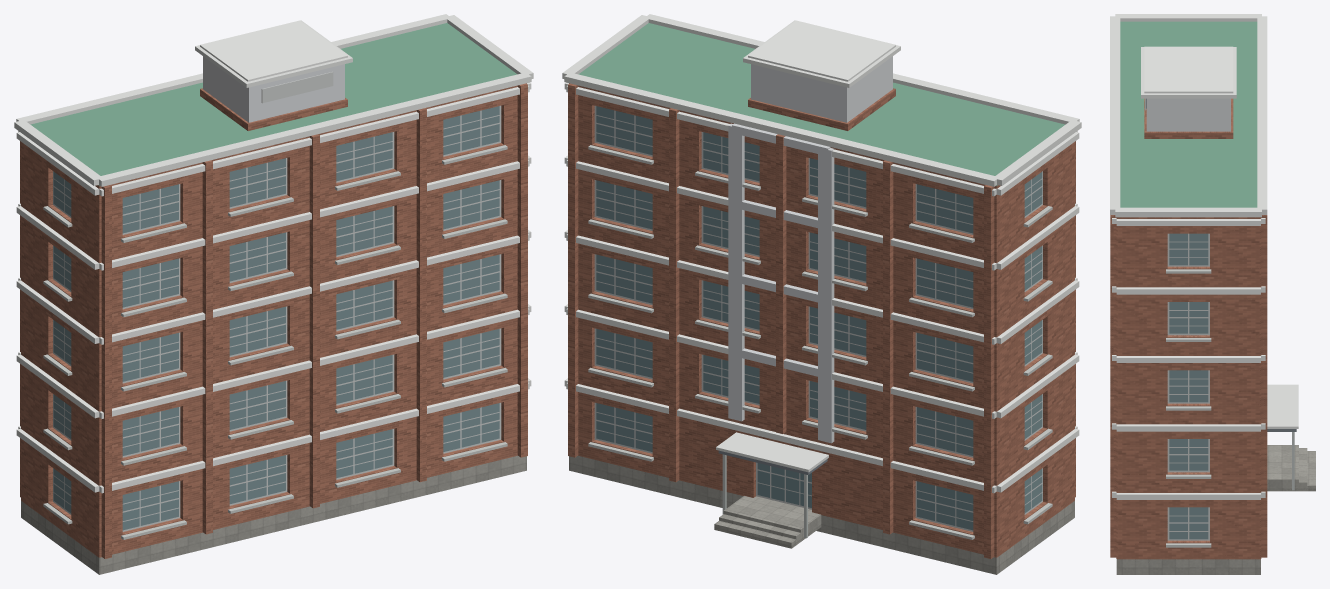
The picture shows the model from 3 angles, left to right: view 1: azimuth 30°, elevation 25°; view 2: azimuth 150°, elevation 25°; view 3: azimuth 270°, elevation 25°; orthographic projection. The views are drawn at different scales.
Parts seen in each view (by area): view 1: center-core-wing__brick, center-core-wing__sideglass, center-core-wing__band, center-core-wing__roof, center-core-wing__frame, center-core-wing__cap, center-core-wing__stone, center-core-wing__sill, center-core-wing__panel; view 2: center-core-wing__brick, center-core-wing__glass, center-core-wing__band, center-core-wing__roof, center-core-wing__panel, center-core-wing__cap, center-core-wing__frame, center-core-wing__stone, center-core-wing__sill, center-core-wing__sideglass, center-core-wing__stair-front, center-core-wing__threshold-front; view 3: center-core-wing__brick, center-core-wing__roof, center-core-wing__band, center-core-wing__cap, center-core-wing__sideglass, center-core-wing__panel, center-core-wing__frame, center-core-wing__stone, center-core-wing__threshold-front, center-core-wing__sill, center-core-wing__stair-front.
Part boxes in pixels (x1,y1,x2,y2): center-core-wing__brick: (20,83,527,558); center-core-wing__sideglass: (53,106,499,530); center-core-wing__band: (16,20,531,493); center-core-wing__roof: (30,23,517,185); center-core-wing__frame: (53,71,501,531); center-core-wing__cap: (14,14,533,186); center-core-wing__stone: (21,455,526,574); center-core-wing__sill: (43,145,507,539); center-core-wing__panel: (203,56,344,122); center-core-wing__brick: (568,83,1075,558); center-core-wing__glass: (596,106,973,530); center-core-wing__band: (564,20,1079,493); center-core-wing__roof: (578,23,1065,185); center-core-wing__panel: (728,56,892,443); center-core-wing__cap: (562,14,1081,472); center-core-wing__frame: (594,105,1042,531); center-core-wing__stone: (569,455,1074,574); center-core-wing__sill: (588,145,1052,539); center-core-wing__sideglass: (1024,172,1042,513); center-core-wing__stair-front: (714,507,805,548); center-core-wing__threshold-front: (728,496,821,536); center-core-wing__brick: (1110,98,1267,559); center-core-wing__roof: (1120,21,1257,207); center-core-wing__band: (1112,46,1265,499); center-core-wing__cap: (1110,14,1298,428); center-core-wing__sideglass: (1169,233,1208,539); center-core-wing__panel: (1146,98,1230,131); center-core-wing__frame: (1145,98,1209,540); center-core-wing__stone: (1116,559,1260,574); center-core-wing__threshold-front: (1267,445,1290,491); center-core-wing__sill: (1166,269,1211,547); center-core-wing__stair-front: (1290,445,1315,491).
Bounding box in the file's own units: 21.08 × 20.33 × 9.26.
Materials: 13 (2 with a texture image).
